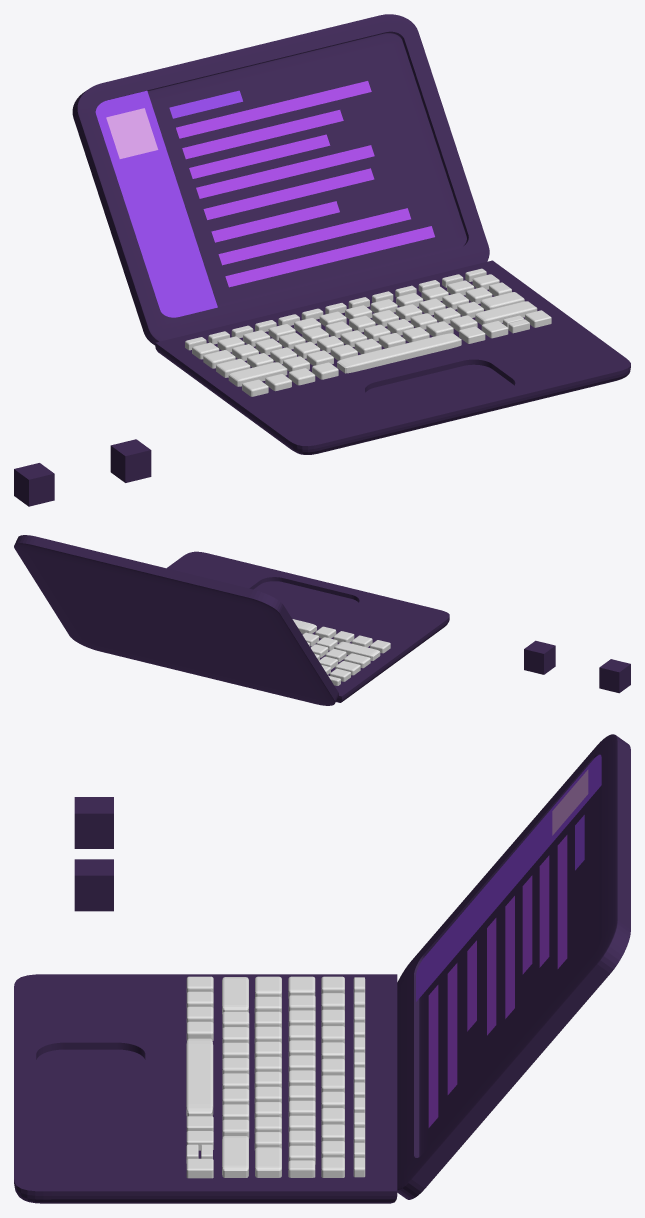
File: laptop.gltf
3 views of the same model, one above another, from view 1: azimuth 30°, elevation 25°; view 2: azimuth 150°, elevation 25°; view 3: azimuth 270°, elevation 25° (orthographic). The views are drawn at different scales.
Visible parts, largest first — view 1: Cube.025, Cube.020, Text1.002, Cube.001, Cube.012, Cube.004, Text9, Cube.005, Text2, Text8, Cube.003, Text6 (+13 smaller); view 2: Cube.025, Cube.020, Cube.024, Cube.002, Cube.006, Cube.011, Cube.004, Cube.005, Cube.009; view 3: Cube.020, Cube.025, Text1.002, Cube.001, Cube.012, Cube.004, Cube.005, Cube.003, Cube.007, Cube.002, Cube.024, Cube.006 (+13 smaller).
Part boxes in pixels (box(x1,y1,x2,y2)): Cube.025: box(72, 14, 489, 345); Cube.020: box(155, 260, 630, 454); Text1.002: box(95, 90, 217, 317); Cube.001: box(192, 274, 499, 359); Cube.012: box(232, 287, 492, 360); Cube.004: box(247, 301, 483, 367); Text9: box(225, 226, 434, 287); Cube.005: box(283, 315, 477, 371); Text2: box(176, 81, 371, 138); Text8: box(218, 208, 410, 265); Cube.003: box(185, 268, 486, 350); Text6: box(196, 145, 374, 198); Cube.025: box(14, 535, 338, 705); Cube.020: box(167, 551, 449, 702); Cube.024: box(599, 659, 630, 693); Cube.002: box(524, 640, 555, 674); Cube.006: box(315, 626, 390, 653); Cube.011: box(334, 641, 380, 660); Cube.004: box(307, 642, 346, 662); Cube.005: box(302, 632, 337, 650); Cube.009: box(343, 653, 370, 668); Cube.020: box(14, 974, 397, 1203); Cube.025: box(397, 734, 630, 1199); Text1.002: box(416, 754, 601, 1001); Cube.001: box(321, 976, 344, 1177); Cube.012: box(288, 995, 315, 1164); Cube.004: box(254, 996, 281, 1150); Cube.005: box(222, 1011, 249, 1138); Cube.003: box(353, 977, 365, 1177); Cube.007: box(186, 1038, 213, 1116); Cube.002: box(74, 859, 113, 911); Cube.024: box(74, 797, 113, 848); Cube.006: box(186, 976, 213, 1040).
Size of the model in its own units: 4.57 by 1.53 by 3.15.
